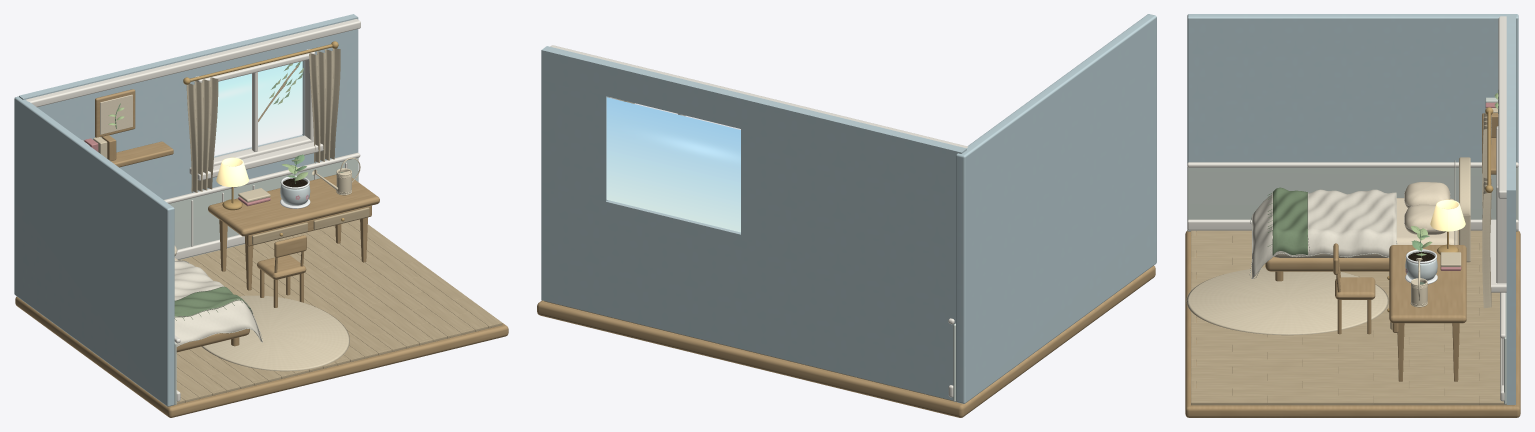
The model's file is bedroom.glb.
The picture shows the model from 3 angles, left to right: view 1: azimuth 30°, elevation 25°; view 2: azimuth 150°, elevation 25°; view 3: azimuth 270°, elevation 25°; orthographic projection. The views are drawn at different scales.
Visible parts, largest first — view 1: room_shell / Warm limewash, room_shell / Pale floor oak, room_shell / Painted ivory, room_shell / Honey oak, desk / Honey oak, room_shell / Unbleached linen, room_shell / Window glass, window_backdrop / Window daylight, room_shell / Sage paneling, room_shell / Dusty rose quilt, curtain_right / Unbleached linen, curtain_left / Unbleached linen (+7 smaller); view 2: room_shell / Warm limewash, window_backdrop / Window daylight, room_shell / Honey oak, room_shell / Painted ivory; view 3: room_shell / Warm limewash, room_shell / Pale floor oak, room_shell / Unbleached linen, room_shell / Sage paneling, room_shell / Honey oak, room_shell / Dusty rose quilt, desk / Honey oak, room_shell / Painted ivory, room_shell / Ivory cotton, room_shell / Sage woven throw, curtain_right / Unbleached linen, desk / Lamp linen glow (+6 smaller).
Part boxes in pixels (bbox=[...]): room_shell / Warm limewash: bbox=[14, 14, 358, 406]; room_shell / Pale floor oak: bbox=[174, 219, 502, 405]; room_shell / Painted ivory: bbox=[26, 19, 360, 401]; room_shell / Honey oak: bbox=[15, 89, 508, 417]; desk / Honey oak: bbox=[208, 174, 379, 307]; room_shell / Unbleached linen: bbox=[93, 137, 349, 371]; room_shell / Window glass: bbox=[214, 61, 304, 157]; window_backdrop / Window daylight: bbox=[214, 61, 302, 155]; room_shell / Sage paneling: bbox=[82, 140, 358, 405]; room_shell / Dusty rose quilt: bbox=[174, 260, 262, 346]; curtain_right / Unbleached linen: bbox=[309, 48, 340, 163]; curtain_left / Unbleached linen: bbox=[186, 77, 218, 192]; room_shell / Warm limewash: bbox=[541, 14, 1156, 403]; window_backdrop / Window daylight: bbox=[606, 97, 740, 232]; room_shell / Honey oak: bbox=[537, 265, 1155, 417]; room_shell / Painted ivory: bbox=[550, 45, 967, 397]; room_shell / Warm limewash: bbox=[1187, 14, 1518, 404]; room_shell / Pale floor oak: bbox=[1191, 230, 1514, 405]; room_shell / Unbleached linen: bbox=[1186, 108, 1497, 335]; room_shell / Sage paneling: bbox=[1187, 97, 1518, 404]; room_shell / Honey oak: bbox=[1185, 113, 1520, 417]; room_shell / Dusty rose quilt: bbox=[1252, 189, 1396, 278]; desk / Honey oak: bbox=[1333, 243, 1466, 381]; room_shell / Painted ivory: bbox=[1187, 16, 1518, 401]; room_shell / Ivory cotton: bbox=[1274, 182, 1458, 257]; room_shell / Sage woven throw: bbox=[1267, 187, 1307, 255]; curtain_right / Unbleached linen: bbox=[1482, 178, 1491, 308]; desk / Lamp linen glow: bbox=[1430, 199, 1465, 231].
Size of the model in its own units: 5.77 by 3.41 by 4.55.
Materials: 24 (11 with a texture image).
